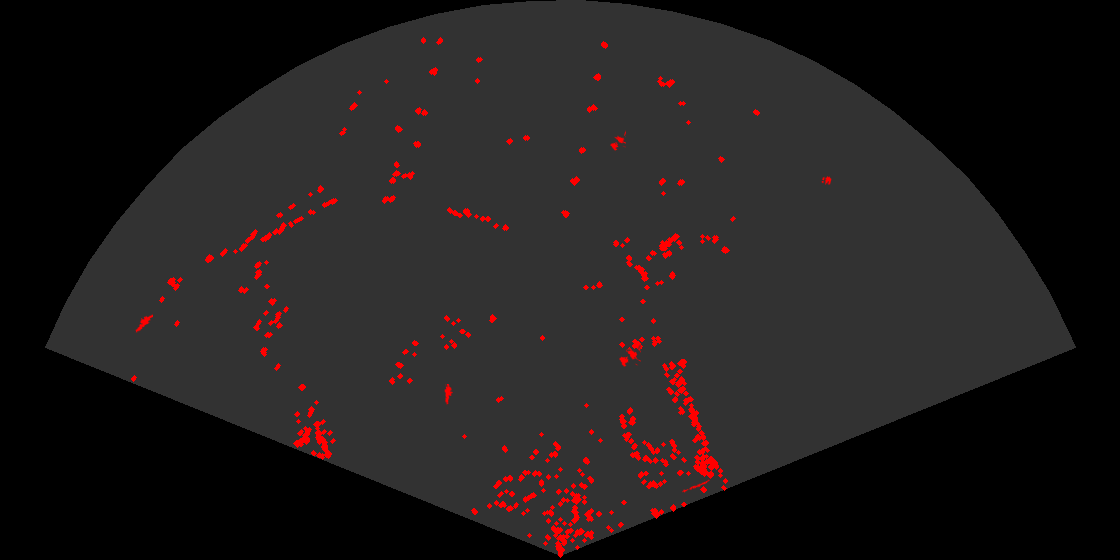ball: (820, 175, 833, 186)
cage: (618, 344, 641, 368), (609, 130, 626, 152)
chain: (682, 478, 711, 494)
frogman: (133, 312, 153, 333), (443, 384, 454, 406)
